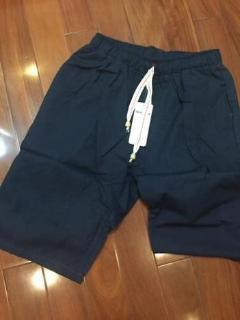shorts: (0, 32, 239, 285)
